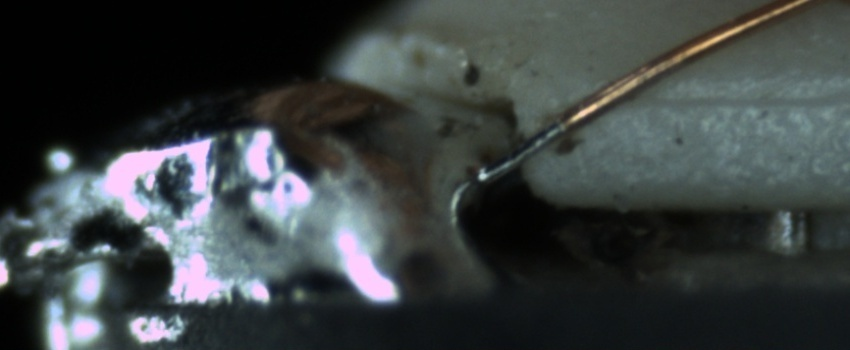DL: (622, 64, 846, 134)
TS: (476, 121, 568, 185)
TTCW: (475, 90, 613, 186)
